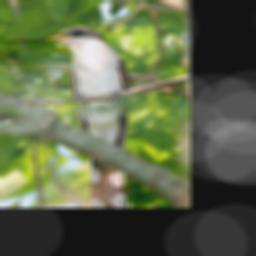Cuckoo: (38, 24, 133, 207)
